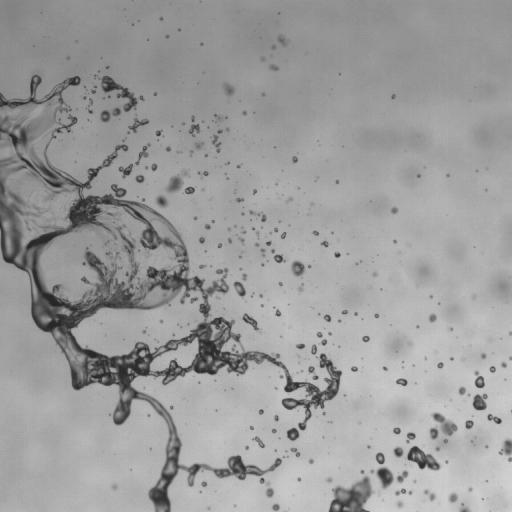droplet: (328, 470, 374, 511), (99, 76, 137, 122), (370, 452, 408, 489), (429, 412, 457, 439), (472, 394, 487, 410), (291, 260, 305, 277), (189, 116, 200, 134), (233, 281, 245, 297), (118, 164, 132, 177), (155, 195, 168, 207), (223, 83, 234, 95), (424, 489, 435, 500), (393, 446, 403, 457), (277, 35, 286, 45), (184, 186, 195, 194), (274, 254, 285, 262), (396, 378, 407, 386), (448, 493, 457, 502), (407, 432, 415, 442), (459, 504, 470, 511), (428, 313, 436, 322), (465, 420, 473, 429), (135, 175, 144, 182), (195, 142, 203, 149), (458, 387, 465, 395), (396, 500, 403, 508), (272, 503, 279, 511), (269, 64, 278, 70), (311, 345, 316, 355), (215, 114, 222, 121), (324, 314, 331, 321), (393, 427, 400, 434), (275, 308, 281, 316), (296, 343, 304, 349), (151, 163, 157, 170), (362, 336, 369, 342), (319, 339, 326, 345), (391, 207, 397, 213), (238, 237, 244, 243), (437, 362, 443, 368), (489, 366, 495, 372), (155, 130, 162, 135), (321, 241, 328, 246), (298, 284, 303, 291), (292, 156, 297, 162), (281, 232, 286, 238), (199, 237, 204, 243), (334, 252, 340, 257), (316, 332, 322, 337), (351, 366, 357, 371), (326, 477, 332, 482), (236, 198, 243, 202), (242, 273, 246, 280), (87, 108, 92, 113), (205, 224, 210, 229), (481, 353, 486, 358), (501, 362, 506, 367), (258, 409, 263, 414), (201, 481, 206, 486), (274, 415, 278, 421), (166, 146, 170, 151), (253, 189, 257, 194), (287, 197, 292, 201), (313, 231, 318, 235), (266, 241, 271, 245), (342, 310, 347, 314), (435, 446, 440, 450), (112, 484, 116, 489), (391, 94, 395, 98), (139, 96, 143, 100), (373, 272, 377, 276), (374, 313, 378, 317), (309, 459, 313, 463), (199, 265, 204, 268), (91, 89, 94, 93), (242, 229, 245, 233), (228, 238, 231, 242), (218, 243, 221, 247), (448, 327, 452, 330), (383, 366, 386, 370), (272, 429, 276, 432), (444, 439, 447, 443), (243, 111, 246, 114), (218, 130, 221, 133), (33, 220, 36, 223), (274, 228, 277, 231), (256, 232, 259, 235), (255, 243, 258, 246), (271, 249, 274, 252), (279, 282, 282, 285), (245, 446, 248, 449), (297, 478, 300, 481), (509, 331, 511, 335), (509, 356, 511, 360), (468, 488, 472, 490), (166, 35, 168, 38), (272, 46, 275, 48), (190, 151, 192, 154), (227, 228, 230, 230), (394, 240, 396, 243), (338, 319, 340, 322), (143, 330, 145, 333), (329, 332, 331, 335), (170, 406, 173, 408), (160, 17, 162, 19), (95, 75, 97, 77), (238, 165, 240, 167), (194, 217, 196, 219), (252, 227, 254, 229), (261, 263, 263, 265), (308, 265, 310, 267), (251, 294, 253, 296), (430, 295, 432, 297), (160, 320, 162, 322), (450, 358, 452, 360), (367, 446, 369, 448)
ligament: (0, 77, 341, 511), (406, 446, 441, 470), (166, 169, 189, 193), (242, 314, 259, 331), (135, 144, 149, 164), (499, 438, 511, 461), (129, 118, 148, 132), (249, 210, 266, 222), (474, 370, 484, 388), (308, 366, 318, 380), (212, 135, 220, 152), (252, 436, 264, 447), (487, 414, 501, 423), (395, 488, 412, 495), (291, 448, 300, 456), (198, 171, 208, 176), (89, 99, 92, 106), (261, 249, 264, 256)
